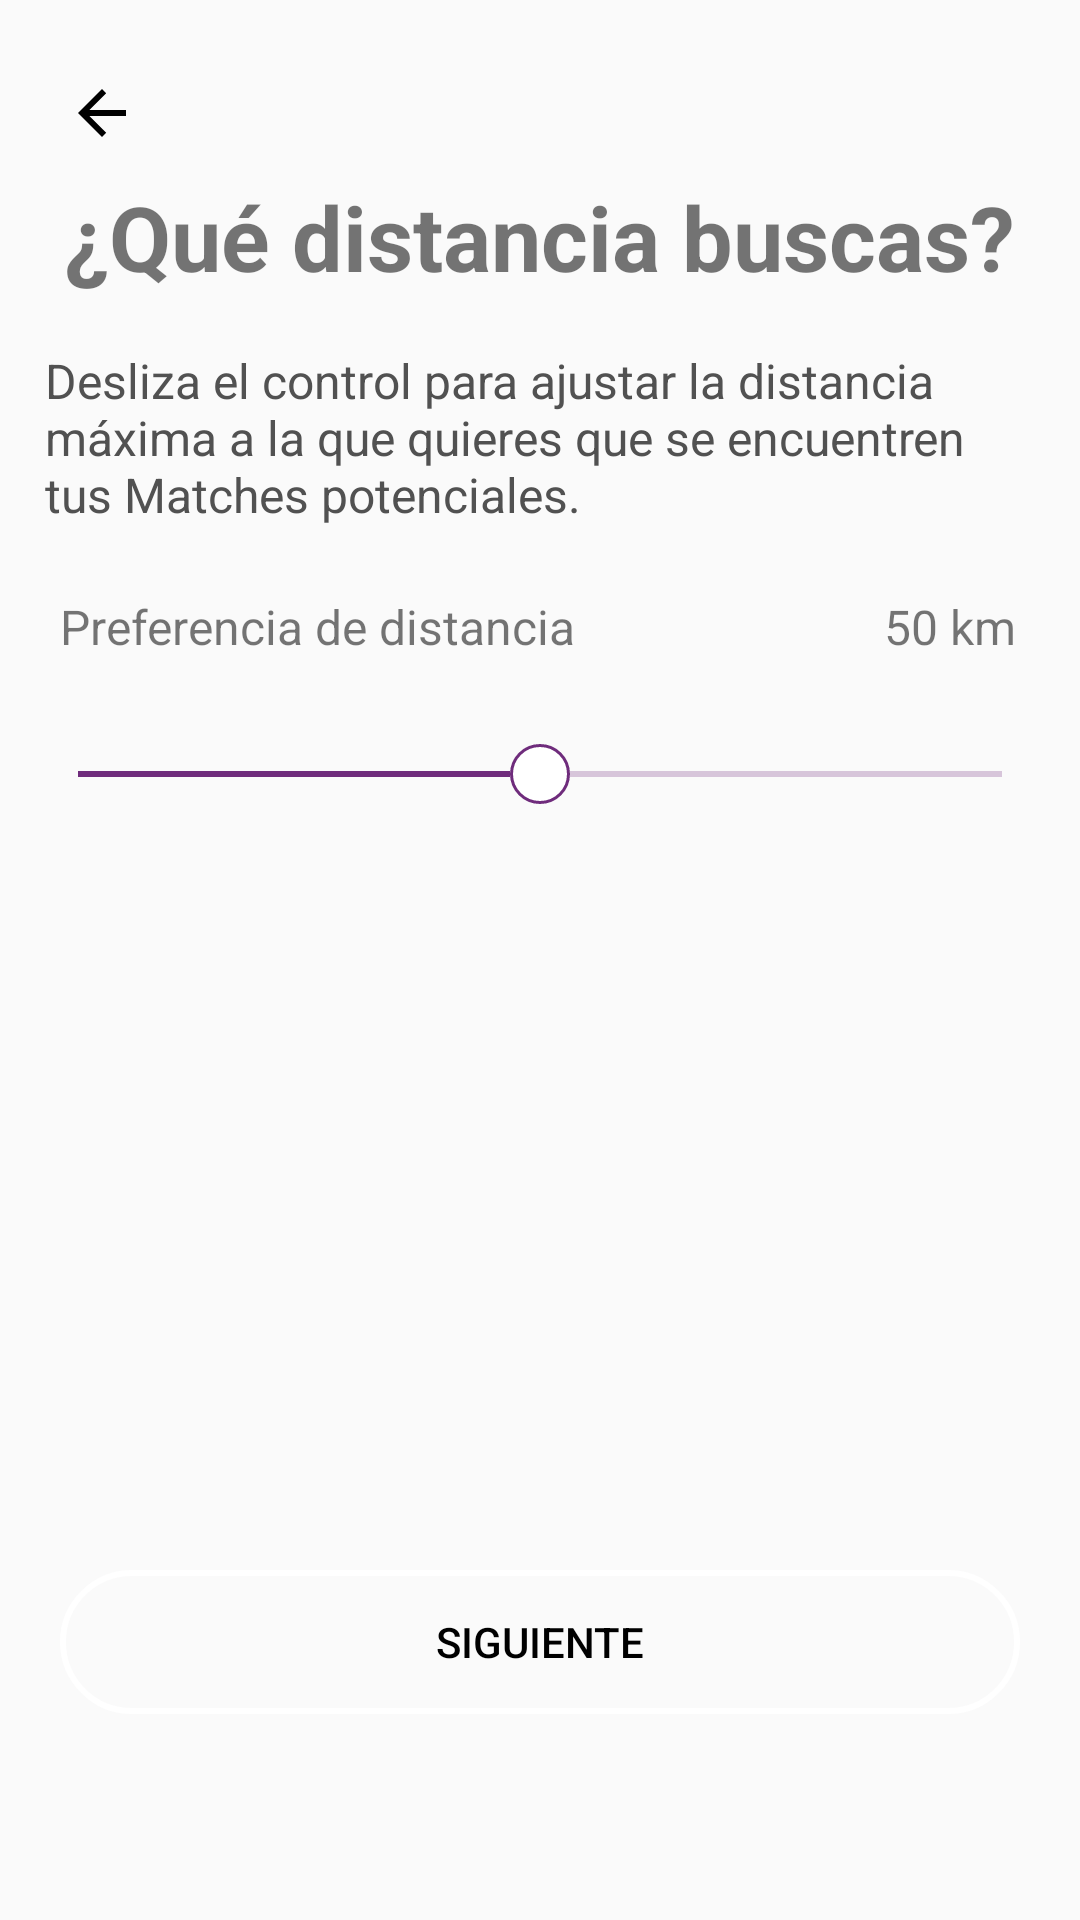

Icons on this 1080×1920 Android screen, each with the point to tap as [x,y]:
Volver atras: [102,113]
